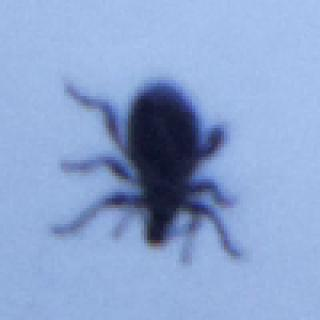bvw: (47, 77, 252, 269)
